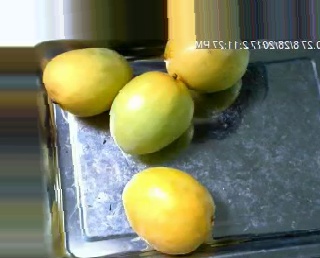Mango: (121, 166, 216, 254), (111, 70, 194, 154), (42, 47, 133, 117), (163, 42, 249, 90)
